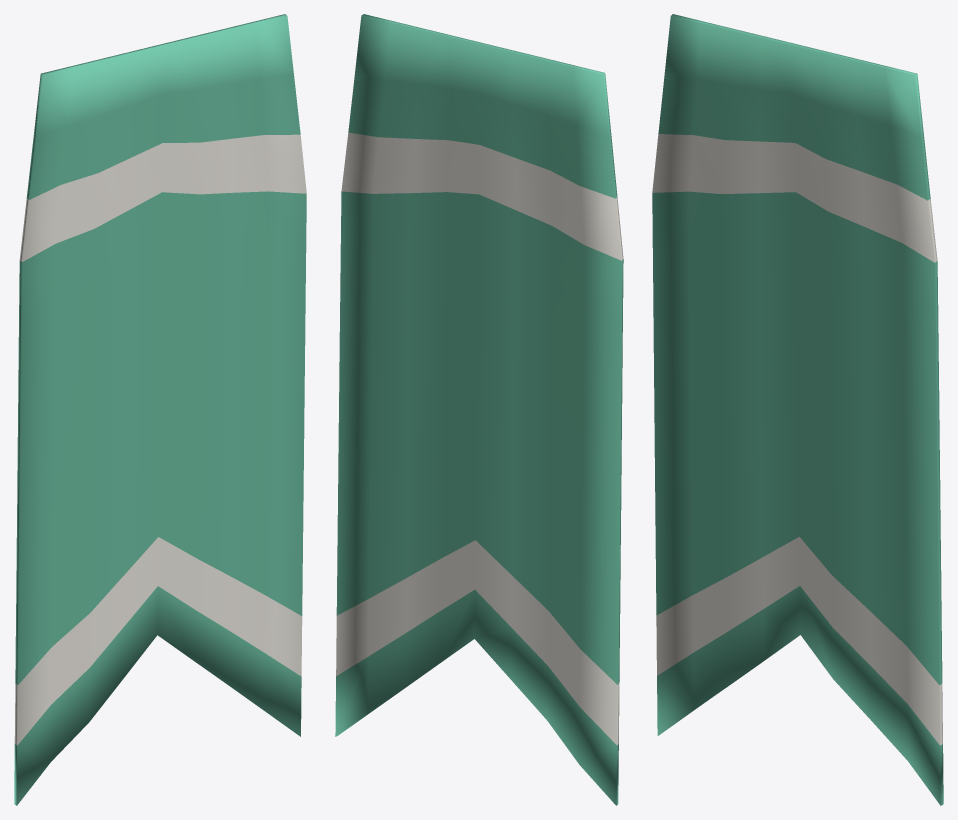
The model's file is banner_teal_a.glb.
3 views of the same model, side by side, from view 1: azimuth 30°, elevation 25°; view 2: azimuth 150°, elevation 25°; view 3: azimuth 330°, elevation 25° (orthographic).
Visible parts, largest first — view 1: banner_teal_a; view 2: banner_teal_a; view 3: banner_teal_a.
Boxes of the visible parts, x1,y1,x2,y2 form: banner_teal_a: [14, 14, 306, 805]; banner_teal_a: [335, 14, 623, 805]; banner_teal_a: [652, 14, 943, 805].
Size of the model in its own units: 1.1 by 2.7 by 0.0794.
